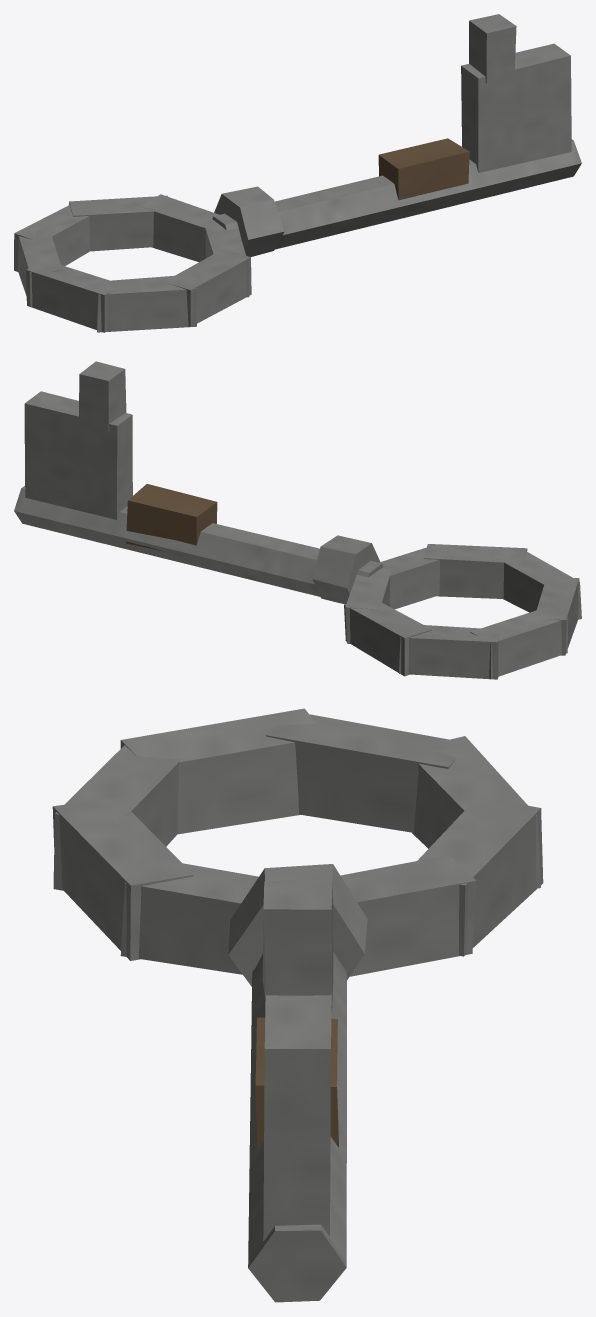
File: rusty_key.glb
3 views of the same model, one above another, from view 1: azimuth 30°, elevation 25°; view 2: azimuth 150°, elevation 25°; view 3: azimuth 270°, elevation 25° (orthographic). The views are drawn at different scales.
Visible parts, largest first — view 1: RustyKey; view 2: RustyKey; view 3: RustyKey.
Boxes of the visible parts, left/top/right/bottom form: RustyKey: left=14, top=14, right=581, bottom=332; RustyKey: left=14, top=361, right=581, bottom=679; RustyKey: left=52, top=708, right=543, bottom=1302.
Bounding box in the file's own units: 0.2611 × 0.0792 × 0.1024.
2 materials, 2 textured.
